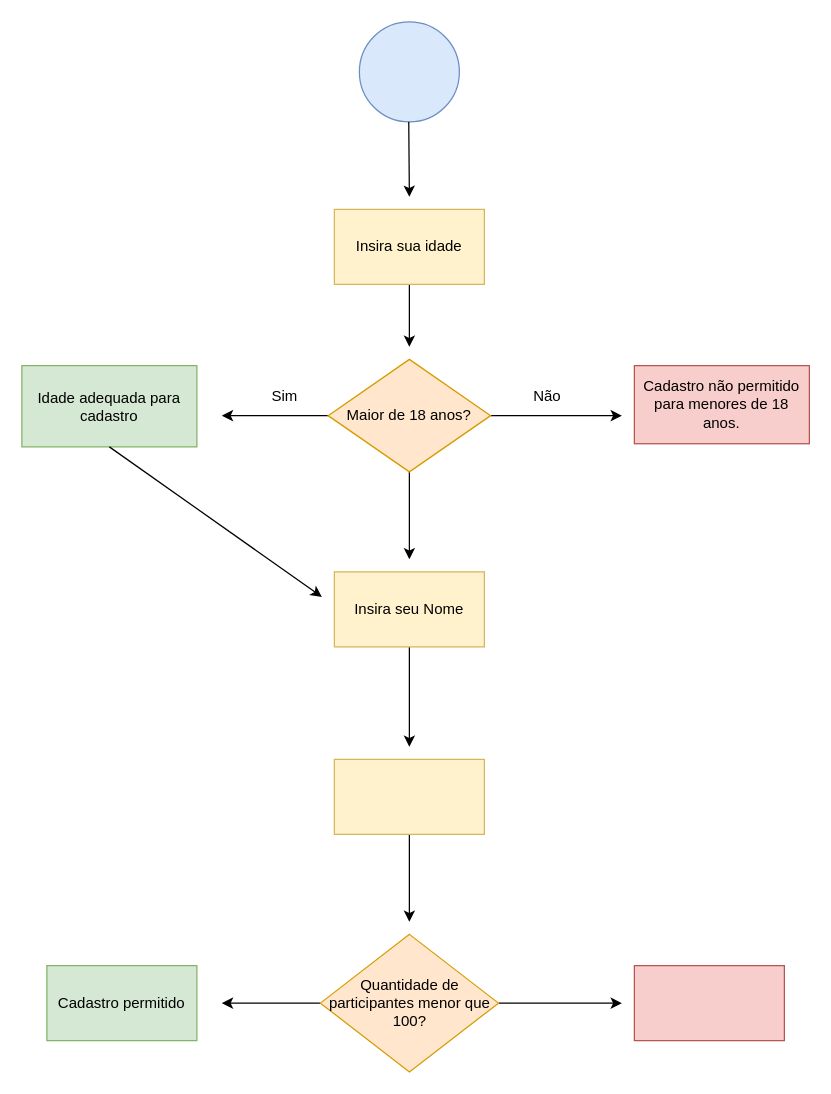
Image size: 831x1094. Some labels were removed from this diagram. The box of each missing label's shape, as (x1, y1, x2, y2) in pixels:
Inicio: (358, 21, 459, 122)
Lista de Participantes: (333, 758, 484, 834)
Numero Máximo de participantes atingido: (633, 964, 784, 1041)
